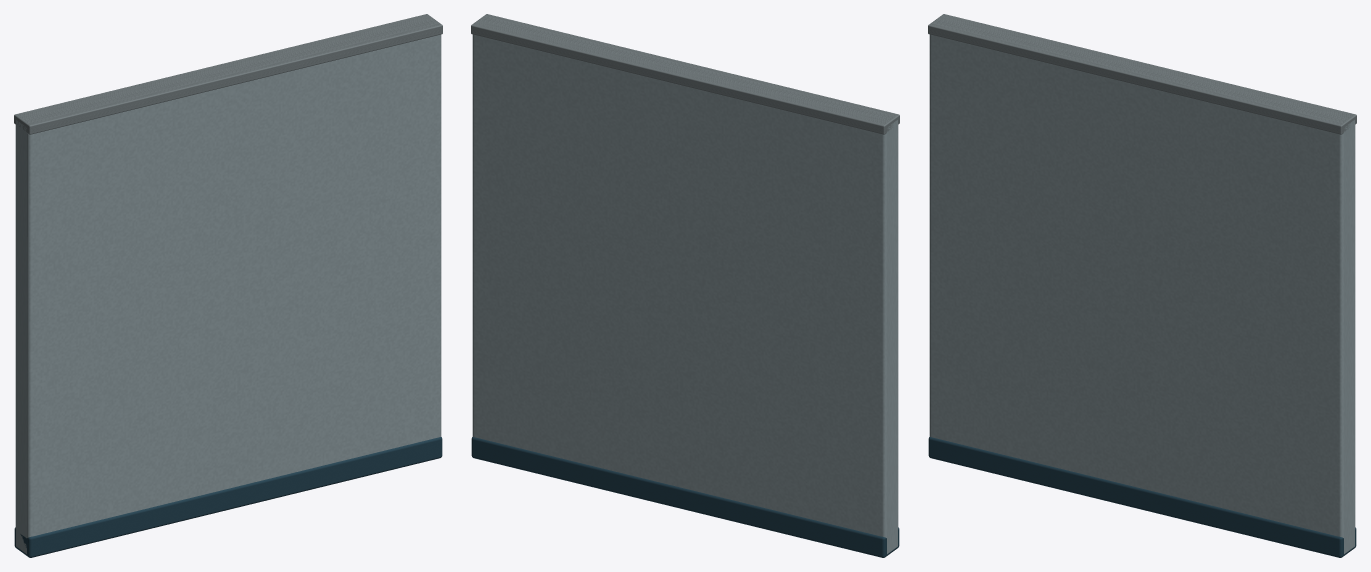
Rendered from wall.54879e6dc6e5.glb.
3 views of the same model, side by side, from view 1: azimuth 30°, elevation 25°; view 2: azimuth 150°, elevation 25°; view 3: azimuth 330°, elevation 25° (orthographic).
Parts seen in each view (by area): view 1: wall_panel_0001, top_trim_0003, skirting_0002; view 2: wall_panel_0001, top_trim_0003, skirting_0002; view 3: wall_panel_0001, top_trim_0003, skirting_0002.
Part boxes in pixels (left/top/right/bottom): wall_panel_0001: left=15, top=34, right=441, bottom=553; top_trim_0003: left=14, top=14, right=442, bottom=134; skirting_0002: left=14, top=437, right=442, bottom=557; wall_panel_0001: left=472, top=34, right=898, bottom=553; top_trim_0003: left=471, top=14, right=899, bottom=134; skirting_0002: left=471, top=437, right=899, bottom=557; wall_panel_0001: left=929, top=34, right=1355, bottom=553; top_trim_0003: left=928, top=14, right=1356, bottom=134; skirting_0002: left=928, top=437, right=1356, bottom=557.
Size of the model in its own units: 3 by 3 by 0.2.
3 materials, 3 textured.
